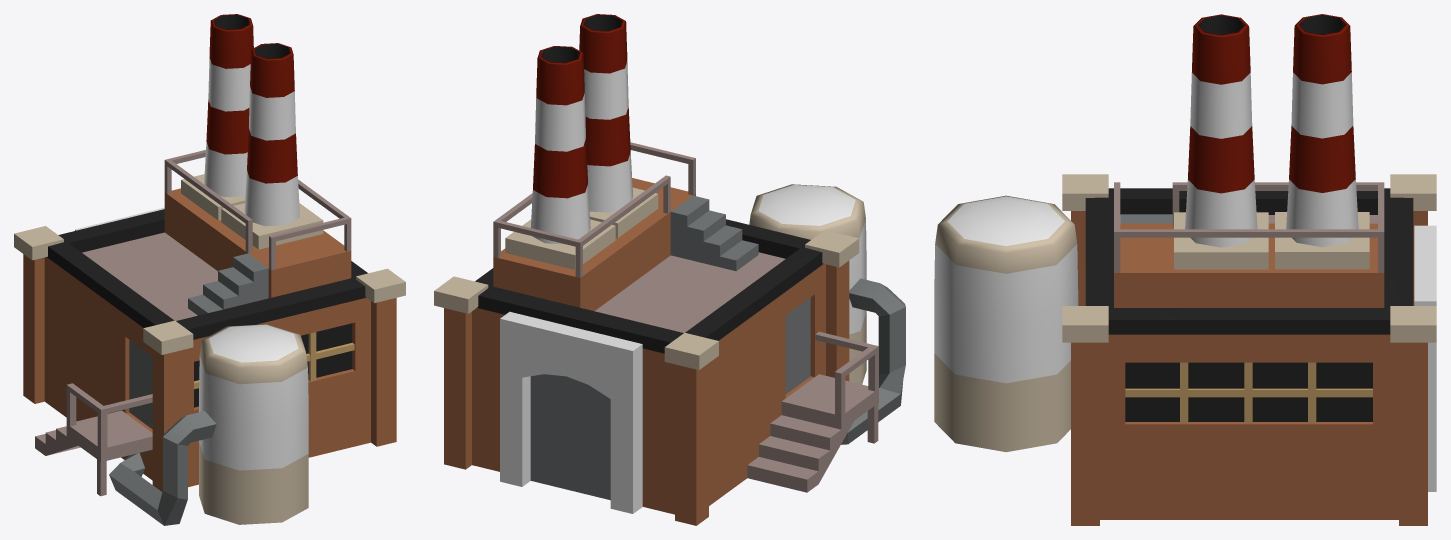
The model's file is Powerplant.fbx.
3 renders of one model, left to right at view 1: azimuth 30°, elevation 25°; view 2: azimuth 150°, elevation 25°; view 3: azimuth 270°, elevation 25°, orthographic. The views are drawn at different scales.
Parts seen in each view (by area): view 1: Factory2; view 2: Factory2; view 3: Factory2.
Boxes of the visible parts, <box> form: Factory2: <box>14,14,405,525</box>; Factory2: <box>434,14,905,525</box>; Factory2: <box>934,14,1436,525</box>.
Bounding box in the file's own units: 107 × 133 × 129.
